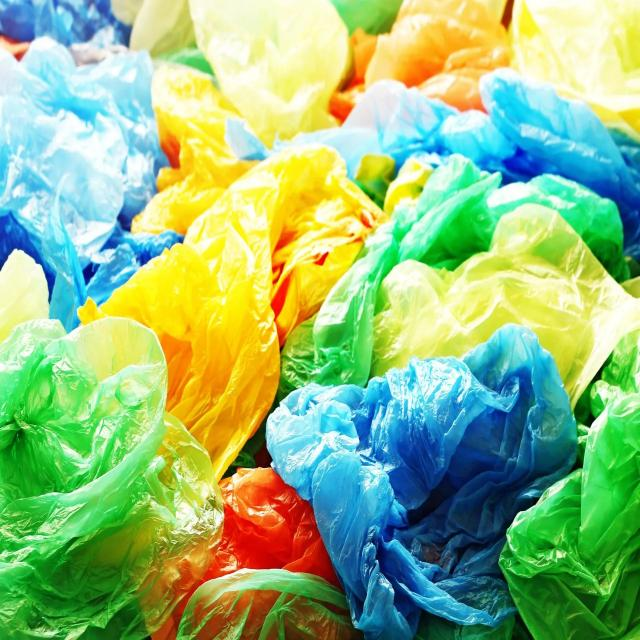Single-layer Plastic: (266, 324, 576, 639), (101, 144, 385, 476), (280, 154, 629, 394), (0, 319, 224, 638), (371, 204, 640, 406), (0, 38, 182, 330), (499, 330, 640, 639), (440, 68, 640, 252), (152, 469, 361, 639), (190, 0, 349, 148), (330, 0, 510, 120), (131, 66, 256, 234), (274, 81, 458, 178), (510, 0, 640, 134), (0, 0, 130, 47), (226, 120, 271, 159)
